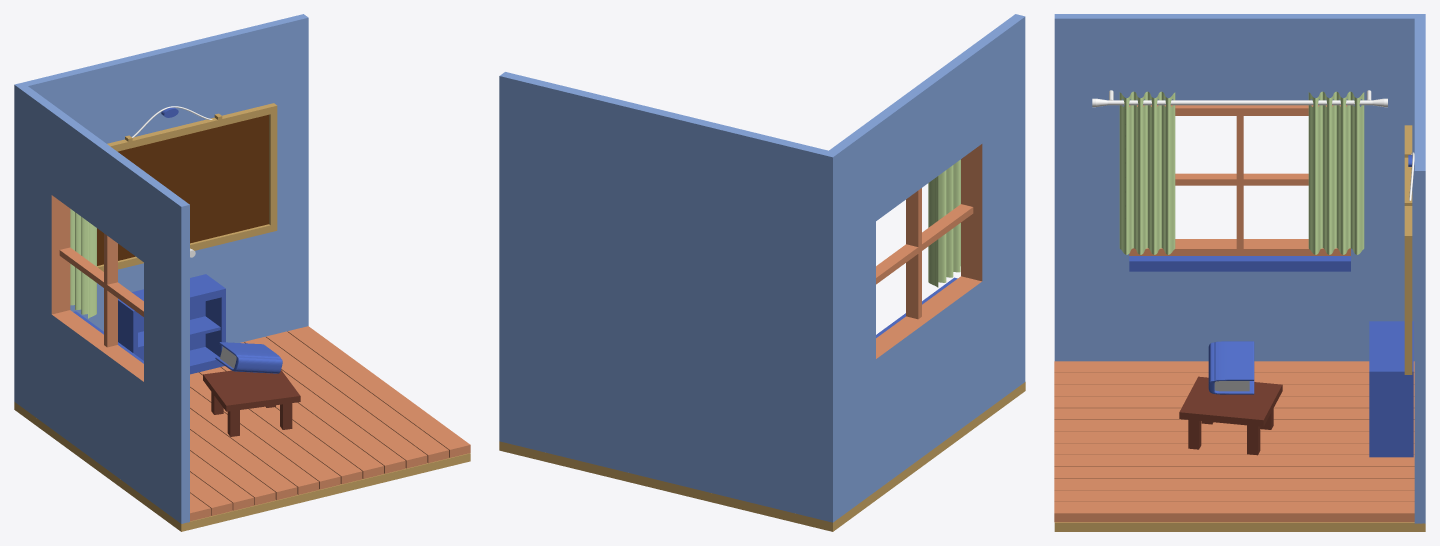
The model's file is room_copy.glb.
The picture shows the model from 3 angles, left to right: view 1: azimuth 30°, elevation 25°; view 2: azimuth 150°, elevation 25°; view 3: azimuth 270°, elevation 25°; orthographic projection. The views are drawn at different scales.
Visible parts, largest first — view 1: wall, floor_wood, dashboard, window, shelf, floor, table, curtain, diary; view 2: wall, window, floor, curtain; view 3: wall, floor_wood, curtain, window, shelf, table, floor, diary, dashboard, Cylinder.
Boxes of the visible parts, x1,y1,x2,y2 form: wall: (14, 14, 308, 523); floor_wood: (190, 326, 470, 521); dashboard: (97, 103, 277, 271); window: (59, 201, 143, 373); shelf: (118, 274, 225, 374); floor: (14, 402, 470, 531); table: (203, 370, 300, 436); curtain: (70, 209, 96, 318); diary: (215, 342, 282, 373); wall: (499, 14, 1025, 522); window: (876, 151, 973, 349); floor: (499, 382, 1025, 531); curtain: (928, 159, 960, 287); wall: (1054, 14, 1425, 523); floor_wood: (1054, 361, 1414, 522); curtain: (1119, 91, 1364, 254); window: (1129, 105, 1350, 271); shelf: (1369, 321, 1413, 457); table: (1179, 376, 1282, 455); floor: (1054, 522, 1425, 531); diary: (1208, 341, 1254, 394); dashboard: (1404, 125, 1414, 374); Cylinder: (1092, 90, 1387, 107).
Size of the model in its own units: 2.2 by 2.36 by 2.2.
